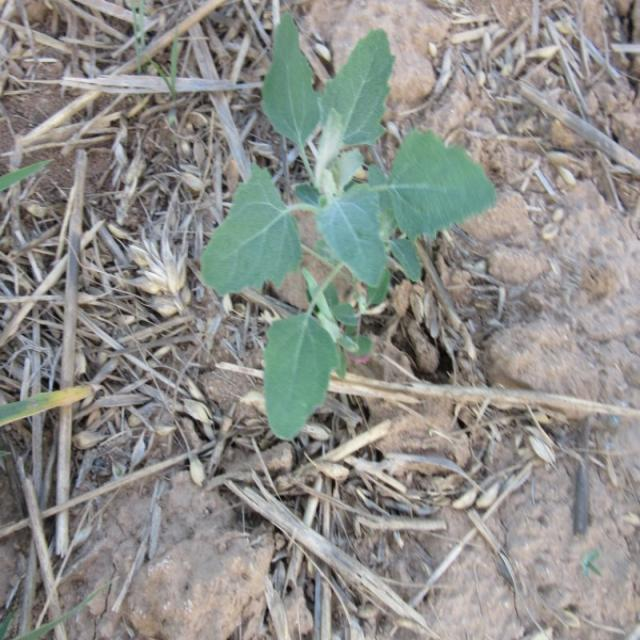ca: (200, 16, 500, 288)
